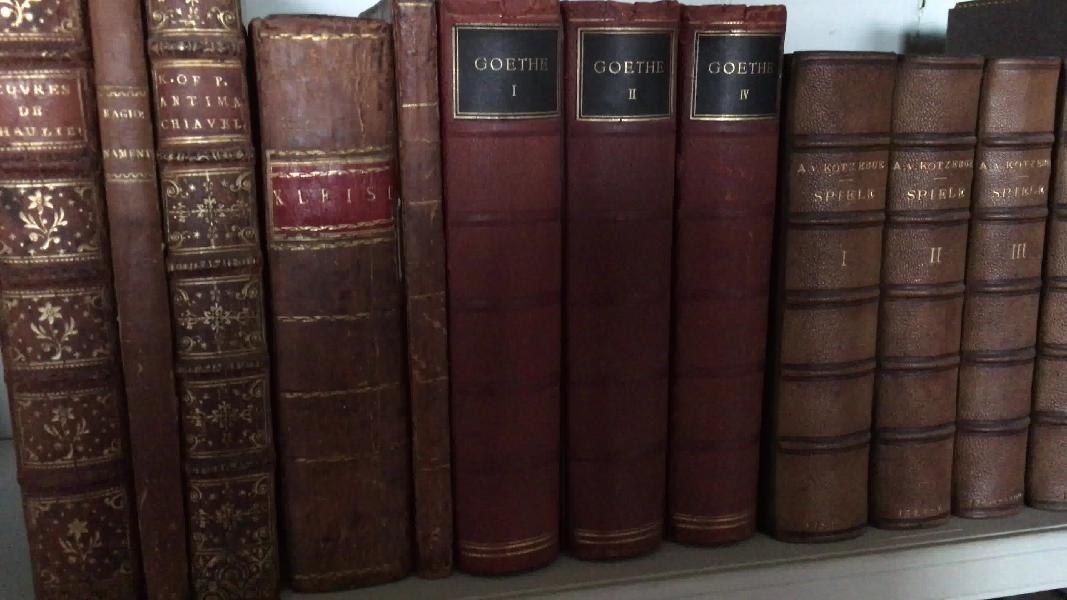Aa6-10: (385, 4, 462, 590)
Aa6-11_13: (440, 8, 773, 577)
Aa6-14_17: (778, 53, 1067, 543)
Aa6-7: (79, 1, 207, 600)
Aa6-8: (146, 1, 296, 598)
Aa6-9: (246, 15, 421, 595)
